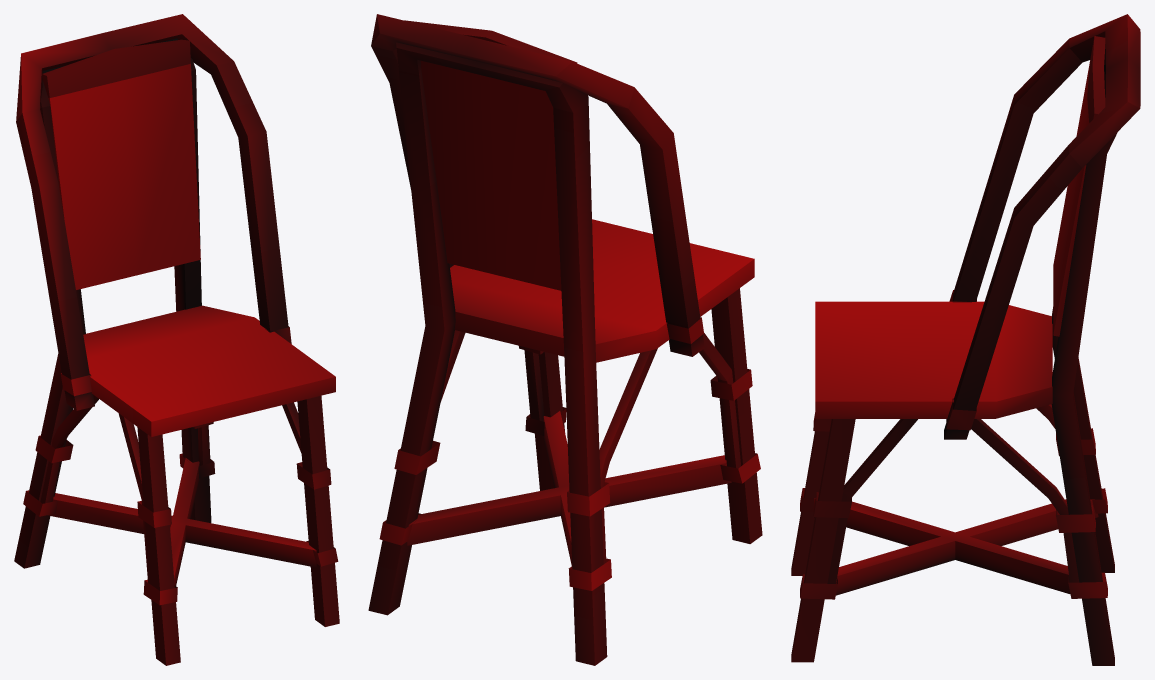
File: CafeChair.glb
The picture shows the model from 3 angles, left to right: view 1: azimuth 30°, elevation 25°; view 2: azimuth 150°, elevation 25°; view 3: azimuth 270°, elevation 25°; orthographic projection. The views are drawn at different scales.
Parts seen in each view (by area): view 1: CafeChair; view 2: CafeChair; view 3: CafeChair.
Boxes of the visible parts, x1,y1,x2,y2 form: CafeChair: [14, 14, 339, 665]; CafeChair: [368, 14, 762, 665]; CafeChair: [791, 14, 1140, 665].
Bounding box in the file's own units: 2.79 × 5.88 × 3.33.
